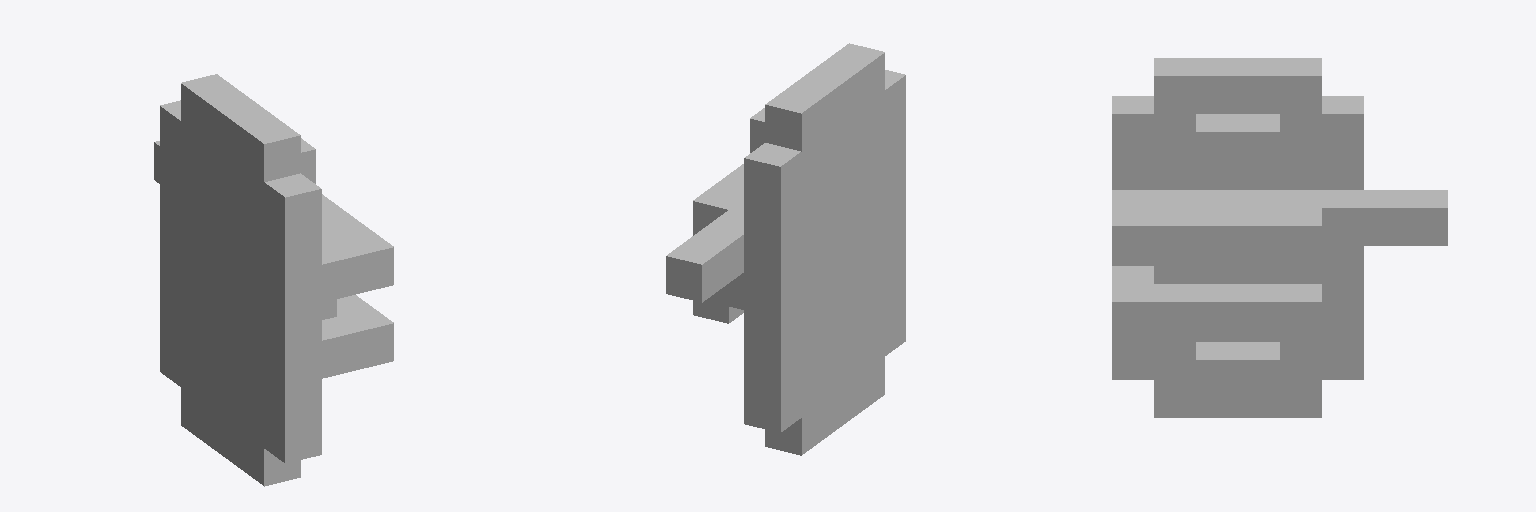
File: Architeture1-7.obj
The picture shows the model from 3 angles: view 1: azimuth 30°, elevation 25°; view 2: azimuth 150°, elevation 25°; view 3: azimuth 270°, elevation 25°; orthographic projection.
Parts seen in each view (by area): view 1: object 1; view 2: object 1; view 3: object 1.
Part boxes in pixels (x1,y1,x2,y2): object 1: (154, 74, 393, 486); object 1: (666, 43, 905, 455); object 1: (1112, 58, 1447, 417).
Bounding box in the file's own units: 0.3 × 0.9 × 0.8.